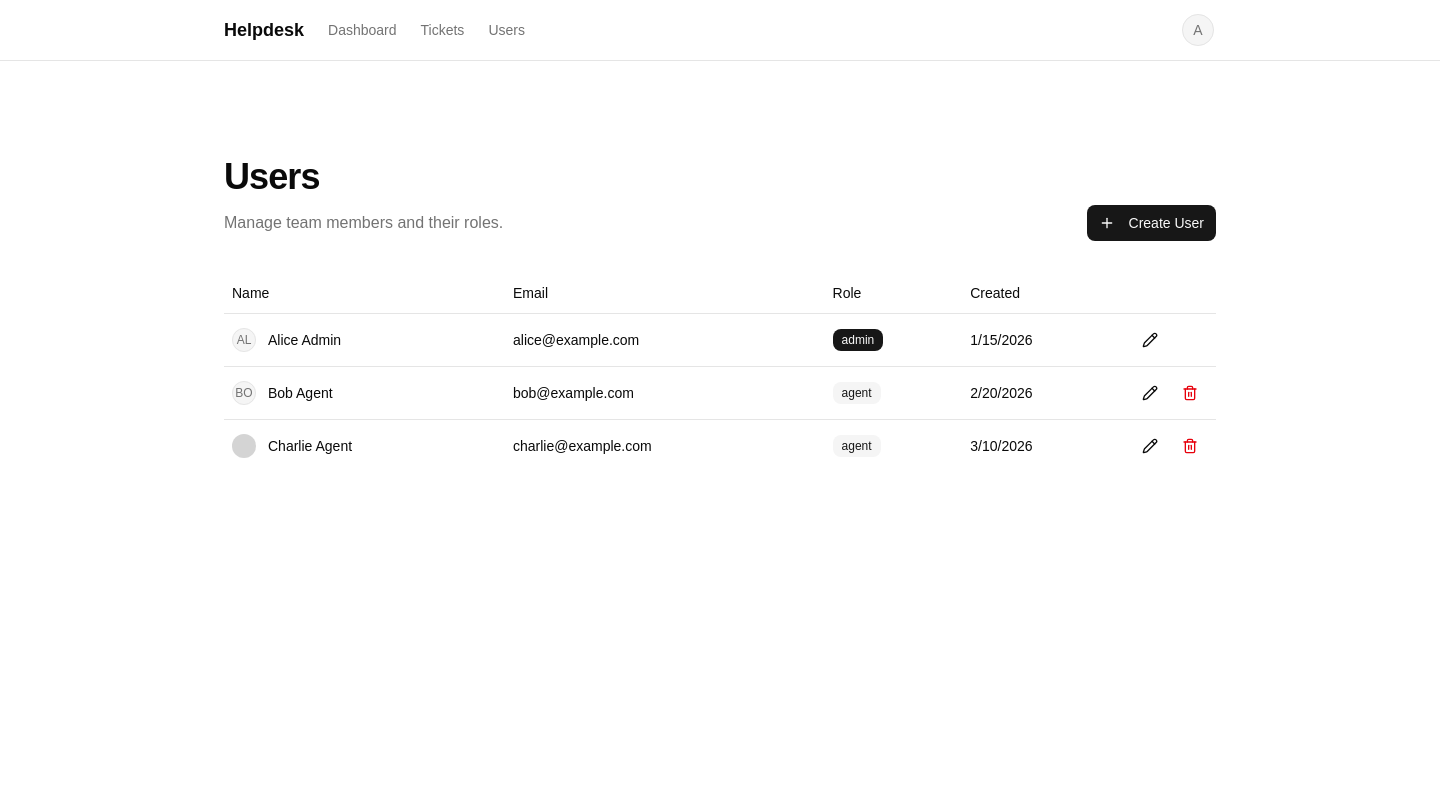
Users page › Create User dialog › opens when Create User button is clicked
Expected: the text "Alice Admin" is shown, [268,330,341,350]
Expected: the text "Add a new agent to the team." is not shown
Step 1. Click the button "Create User" → (1151, 223), box [1086,205,1216,241]
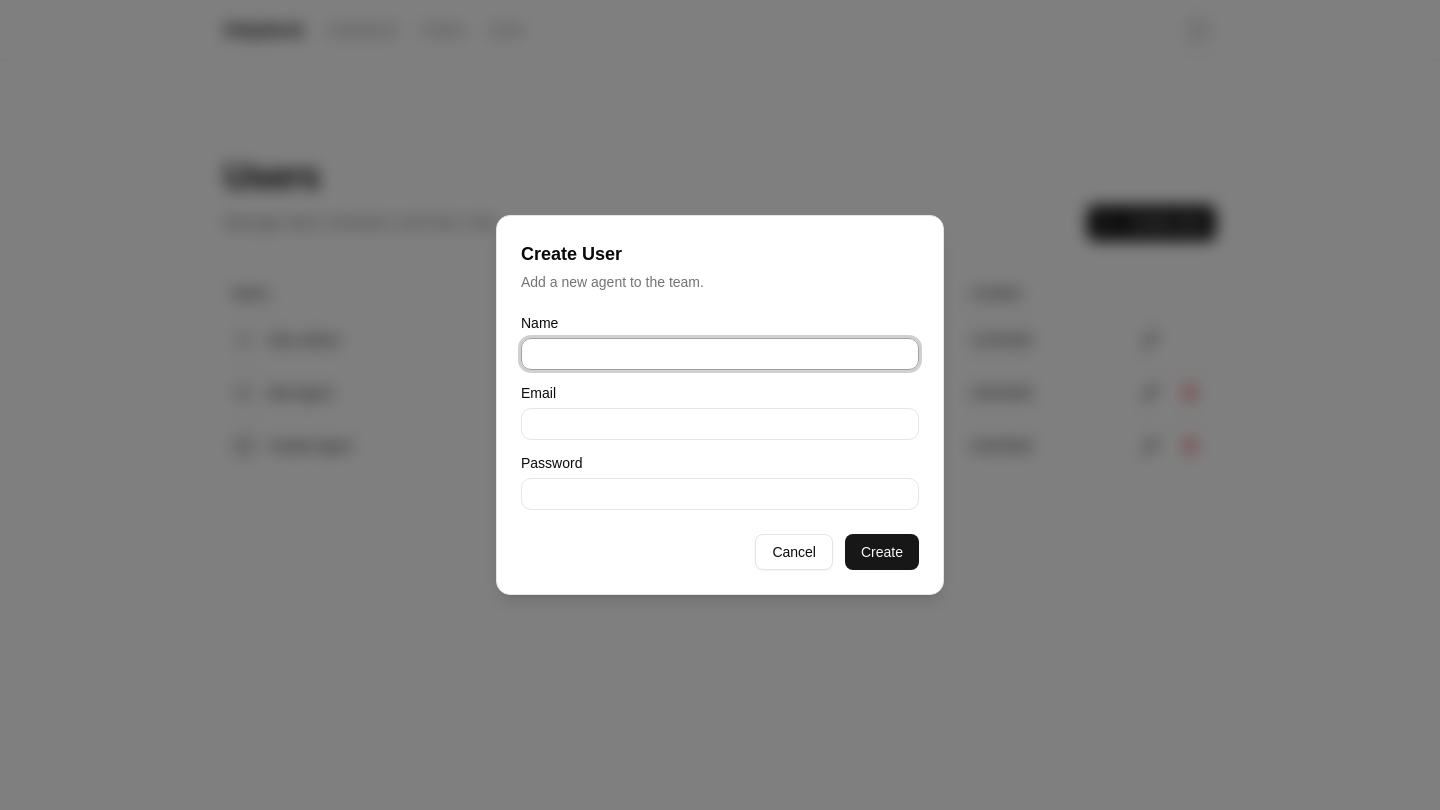
Expected: the text "Add a new agent to the team." is shown, [521,274,704,290]
Expected: the field labelled "Name" is shown, [521,338,919,370]
Expected: the field labelled "Email" is shown, [521,408,919,440]
